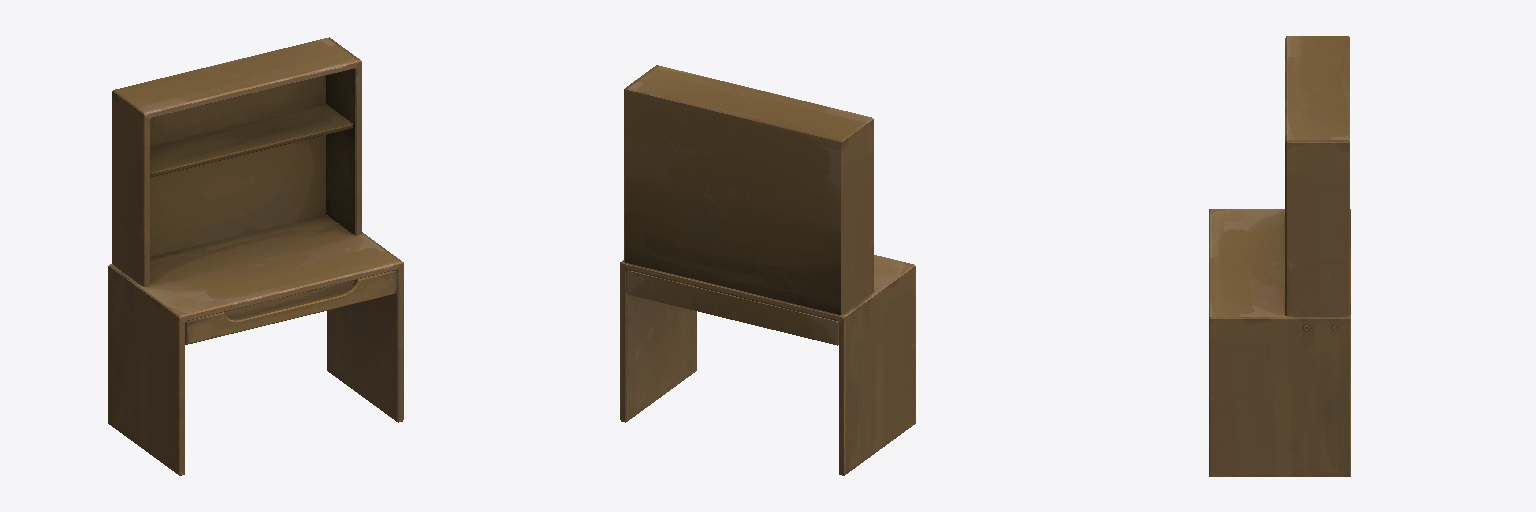
The picture shows the model from 3 angles: view 1: azimuth 30°, elevation 25°; view 2: azimuth 150°, elevation 25°; view 3: azimuth 270°, elevation 25°; orthographic projection.
Parts seen in each view (by area): view 1: Escritorio_H2; view 2: Escritorio_H2; view 3: Escritorio_H2.
Part boxes in pixels (bbox=[...]): Escritorio_H2: bbox=[108, 37, 403, 475]; Escritorio_H2: bbox=[620, 65, 915, 475]; Escritorio_H2: bbox=[1209, 36, 1350, 476].
Bounding box in the file's own units: 1 × 1.42 × 0.55.
2 materials, 1 textured.